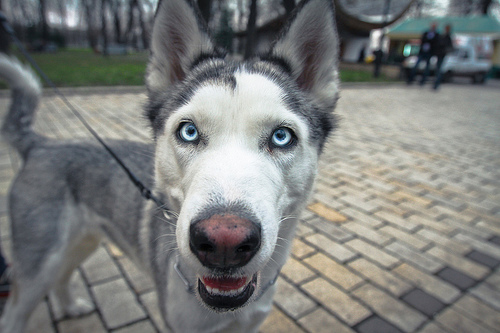dog: (0, 1, 348, 332)
